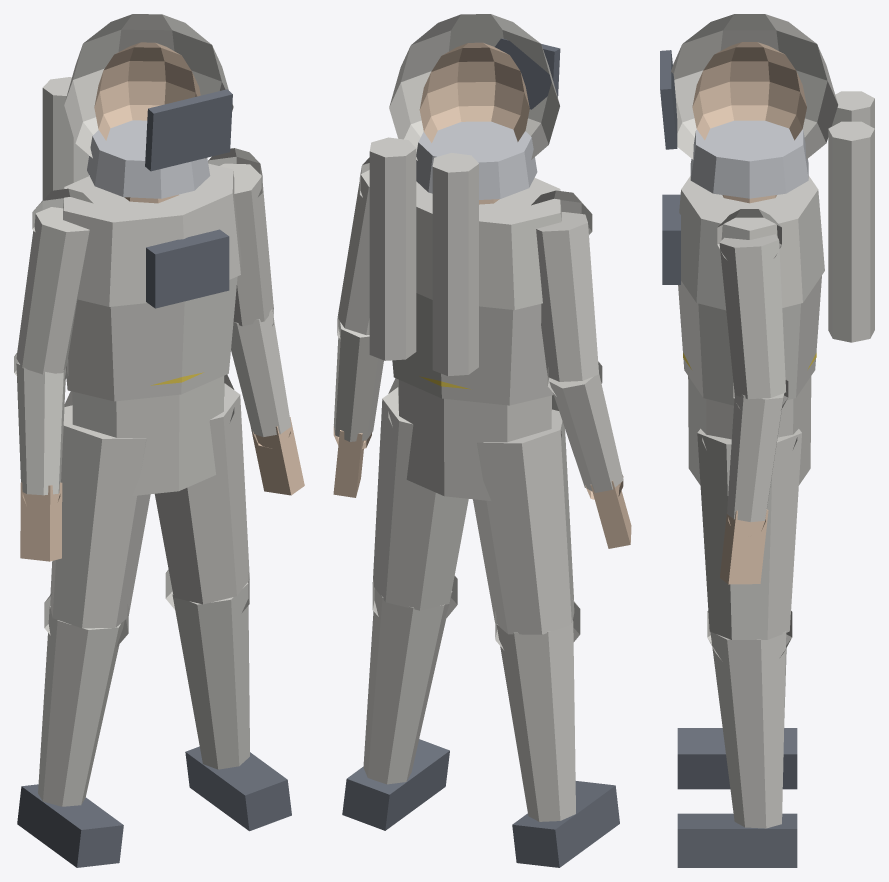
File: low-poly-character-figures-spacesuit-figure-standing-7d86930e__36380.glb
The picture shows the model from 3 angles, left to right: view 1: azimuth 30°, elevation 25°; view 2: azimuth 150°, elevation 25°; view 3: azimuth 270°, elevation 25°; orthographic projection.
Parts seen in each view (by area): view 1: spacesuit-figure-standing; view 2: spacesuit-figure-standing; view 3: spacesuit-figure-standing.
Boxes of the visible parts, x1,y1,x2,y2 form: spacesuit-figure-standing: (14, 14, 304, 867); spacesuit-figure-standing: (333, 14, 631, 867); spacesuit-figure-standing: (660, 14, 874, 867).
Bounding box in the file's own units: 0.6976 × 1.86 × 0.4518.
